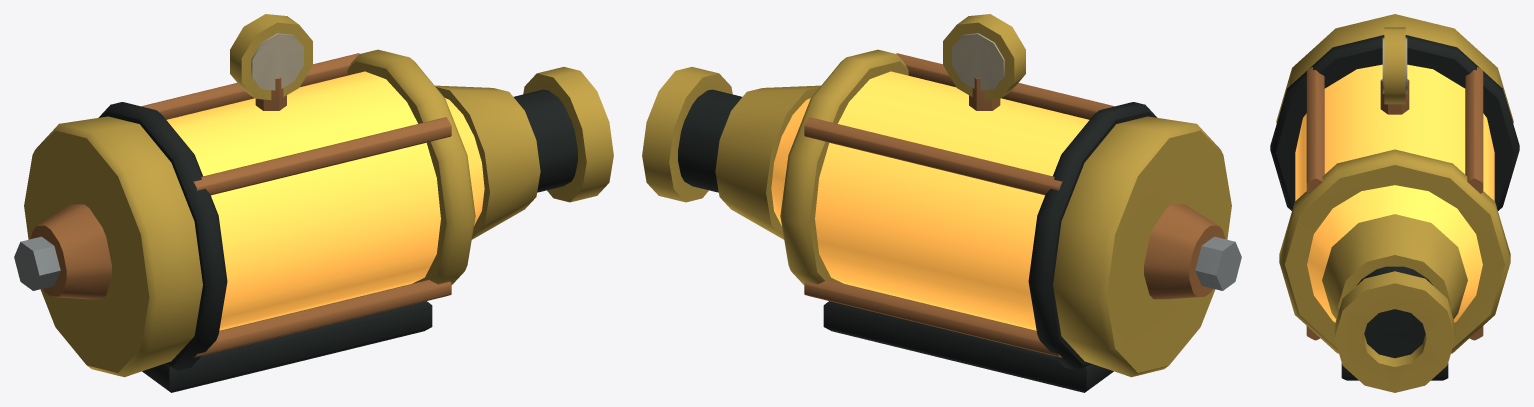
File: cons_nitro_siphon.glb
The picture shows the model from 3 angles, left to right: view 1: azimuth 30°, elevation 25°; view 2: azimuth 150°, elevation 25°; view 3: azimuth 270°, elevation 25°; orthographic projection. The views are drawn at different scales.
Parts seen in each view (by area): view 1: cons_nitro_siphon_mesh; view 2: cons_nitro_siphon_mesh; view 3: cons_nitro_siphon_mesh.
Boxes of the visible parts, x1,y1,x2,y2 form: cons_nitro_siphon_mesh: (14, 14, 613, 392); cons_nitro_siphon_mesh: (642, 14, 1241, 392); cons_nitro_siphon_mesh: (1270, 14, 1519, 392).
Bounding box in the file's own units: 0.652 × 0.365 × 0.28.
